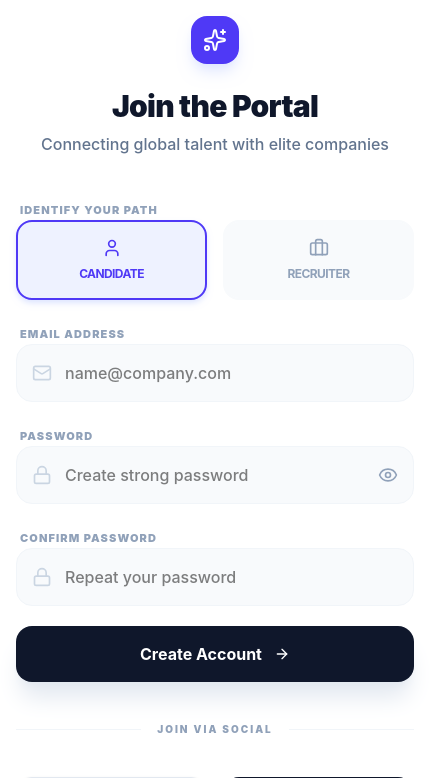
Test case: Signup Page Component › shows error if passwords do not match
Type "test@test.com" into the field with placeholder "name@company.com" at {"x": 215, "y": 373}, box [16,344,414,402]
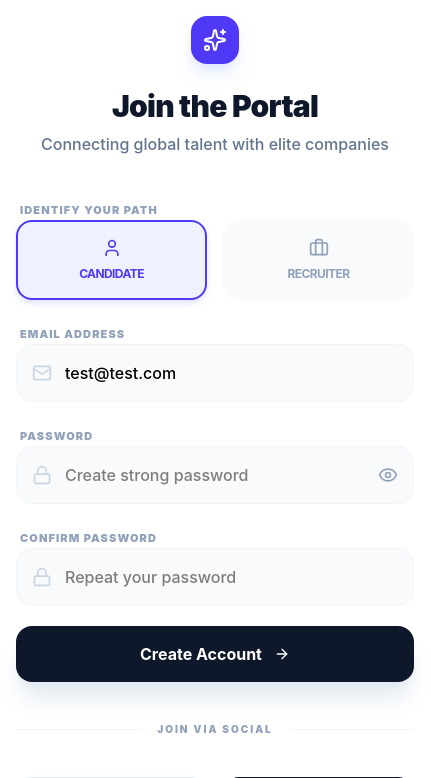
Type "password123" into the password field with placeholder "Create strong password" at {"x": 215, "y": 475}, box [16,446,414,504]
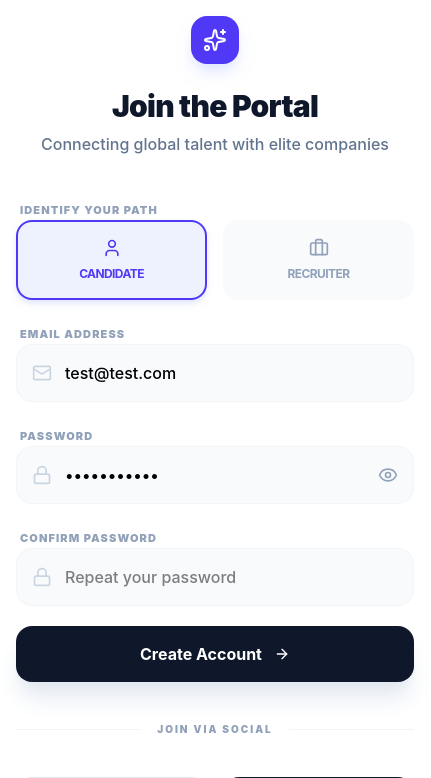
Type "different123" into the password field with placeholder "Repeat your password" at {"x": 215, "y": 577}, box [16,548,414,606]
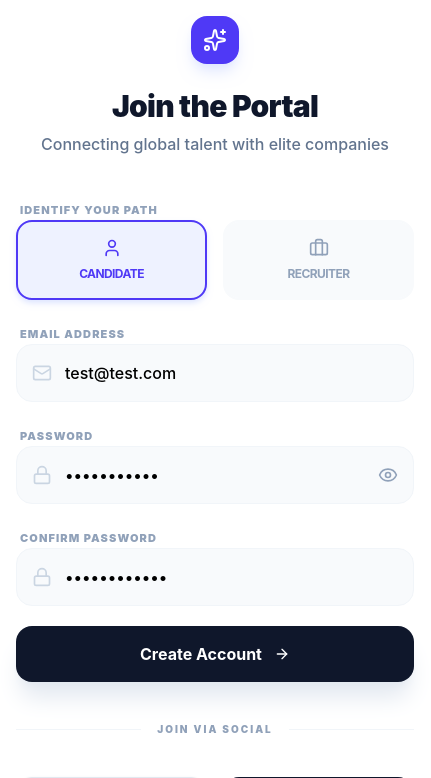
Click the button "Create Account" at {"x": 215, "y": 654}, box [16,626,414,682]
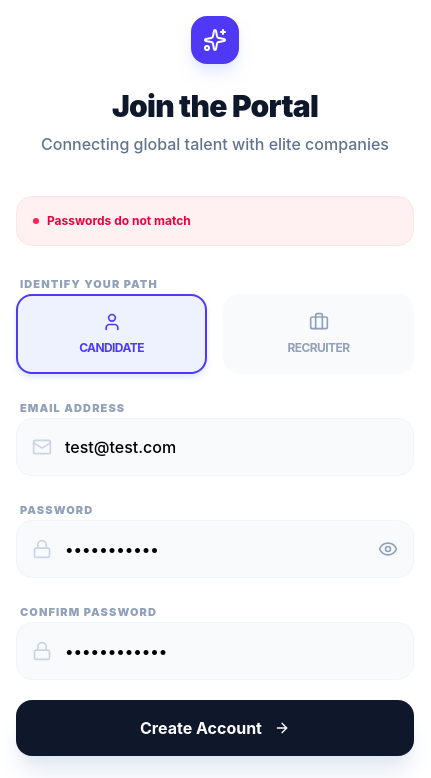
Check: the text "Passwords do not match" is shown, box [33,213,191,228]
